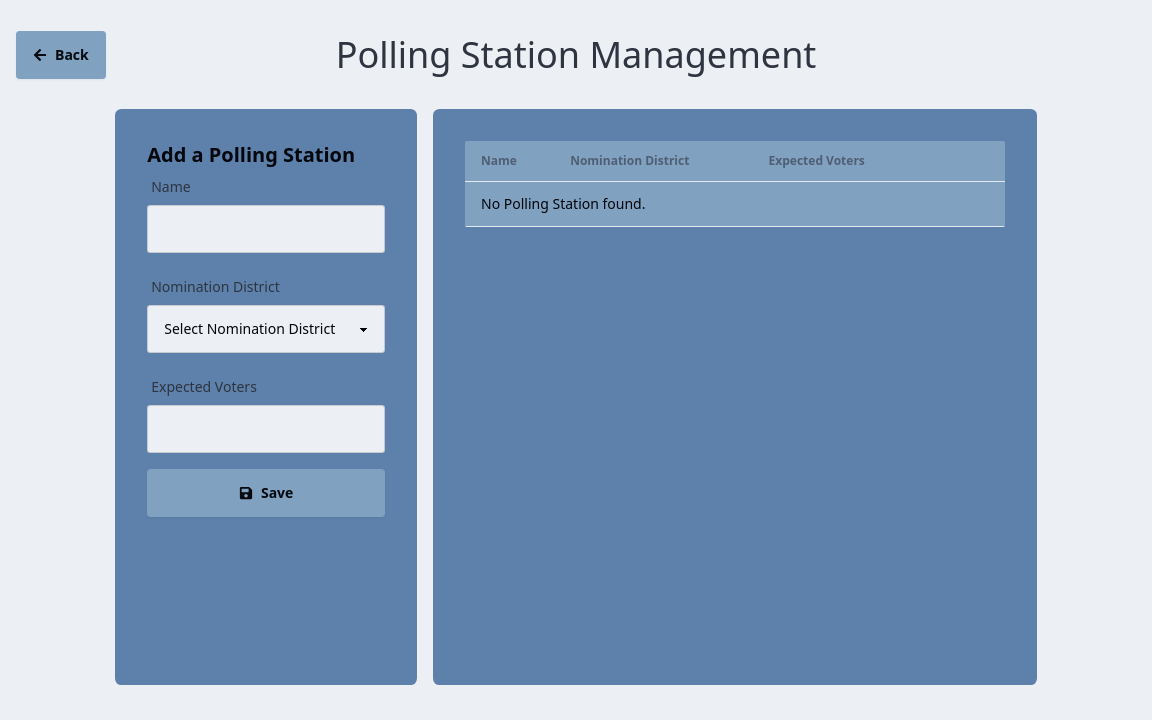
Test: PollingStationScreen › should give toast error with too short polling station name
Type "A" into the field with id "name" at (266, 229), box [147, 205, 385, 253]
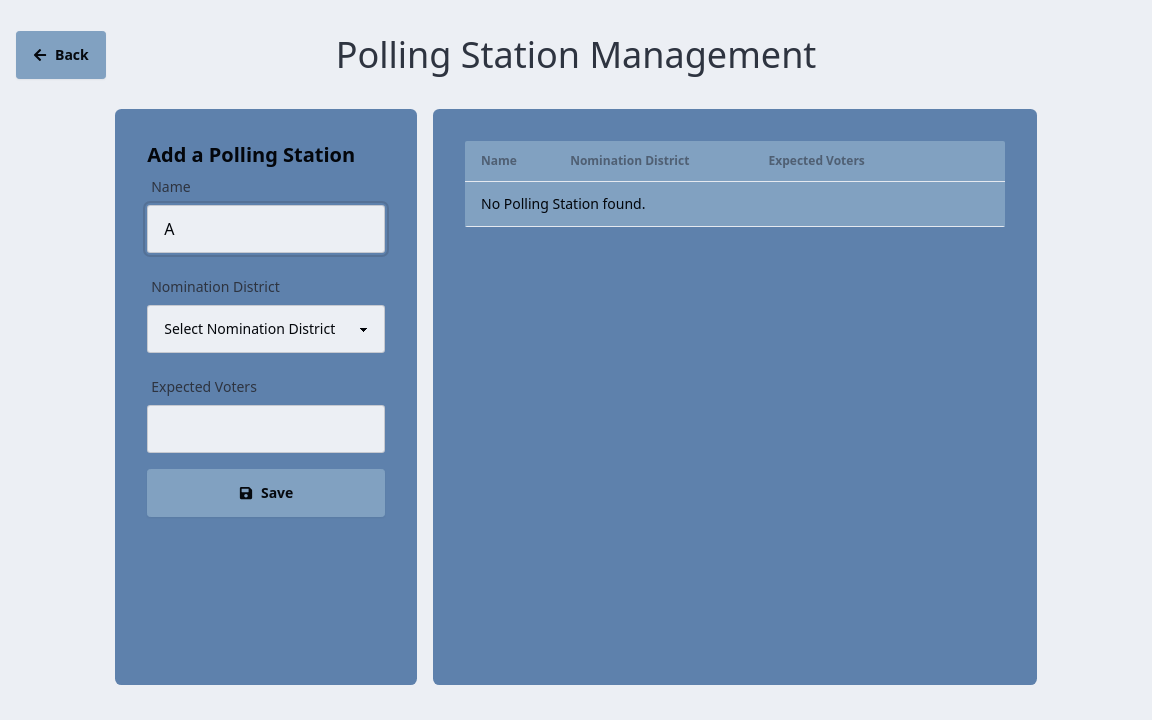
Select "Banan-distriktet" in the dropdown with id "nominationDistrict" at (266, 329), box [147, 305, 385, 353]
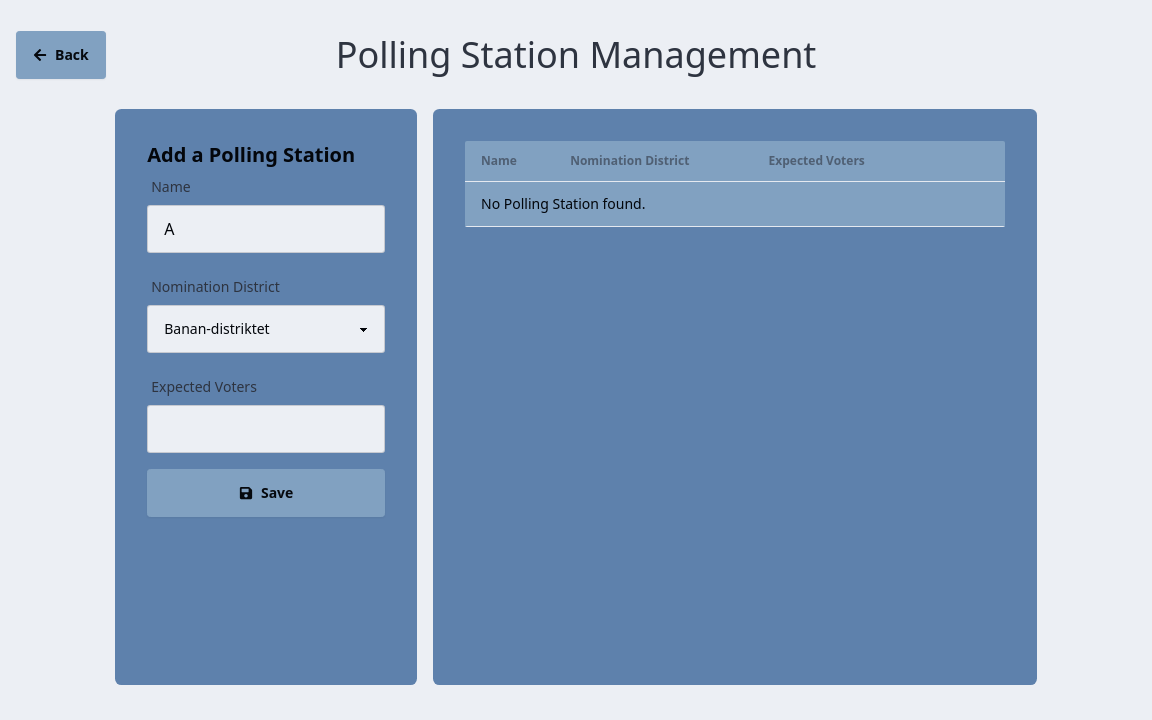
Type "1000" into the number field with id "expectedVoters" at (266, 429), box [147, 405, 385, 453]
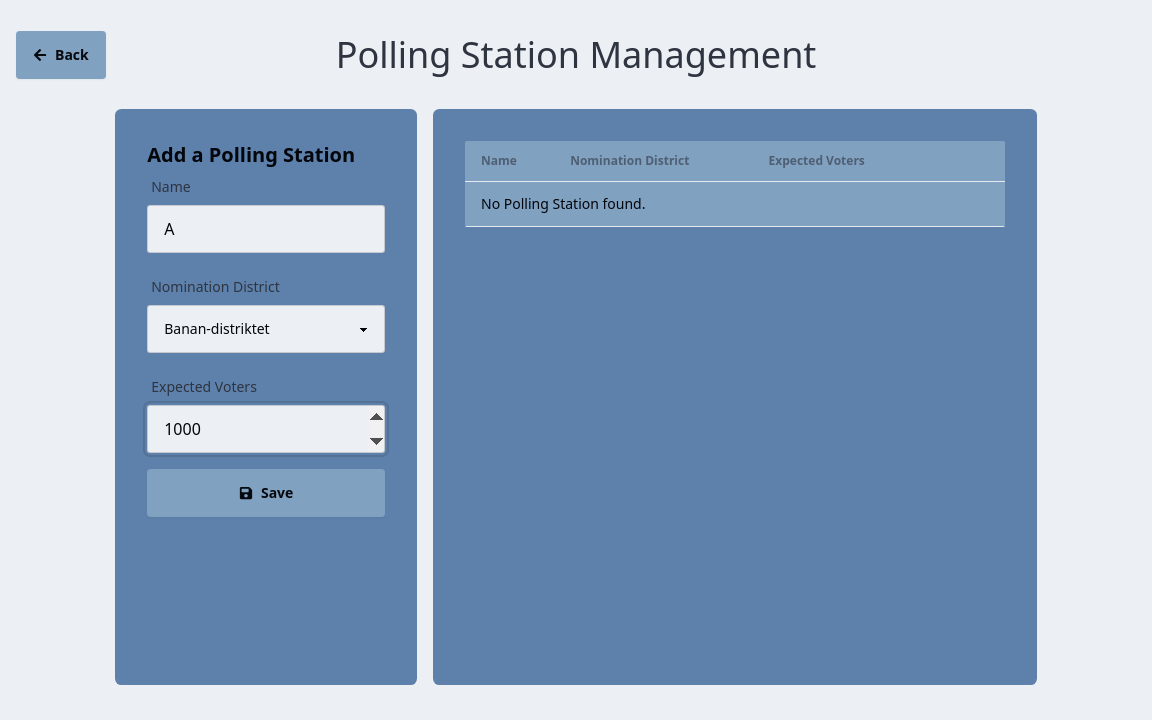
Click the submit button at (266, 493), box [147, 469, 385, 517]
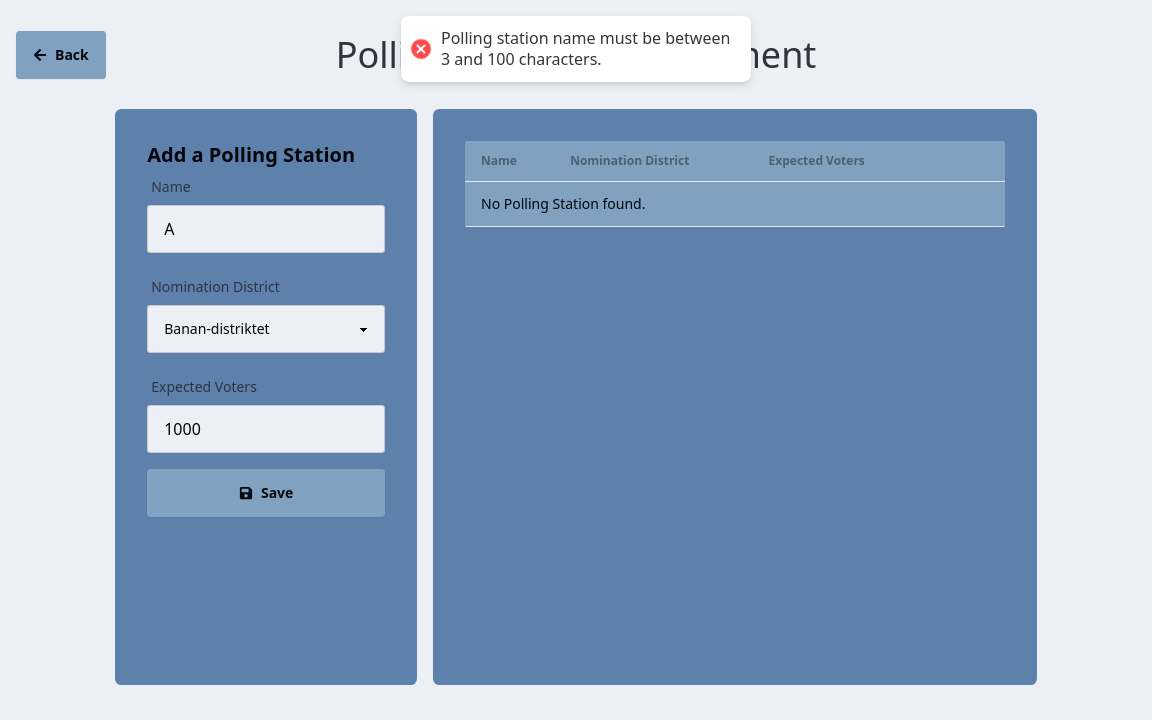
Check: the text "Polling station name must be between 3 and 100 characters." is shown, box [441, 28, 731, 70]
